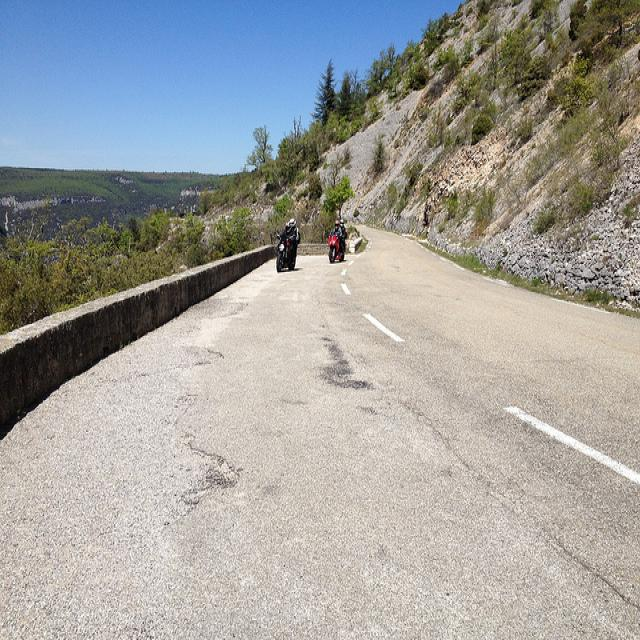motor: (277, 233, 293, 272), (327, 234, 346, 262), (333, 233, 346, 262)
